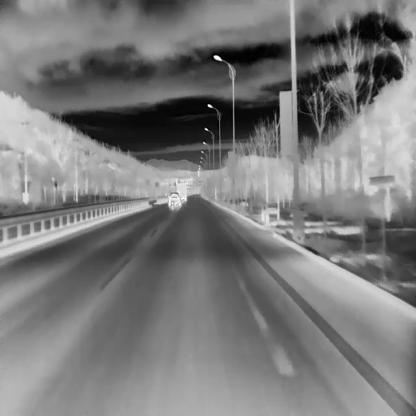car: (167, 191, 181, 206)
truck: (178, 184, 186, 200)
